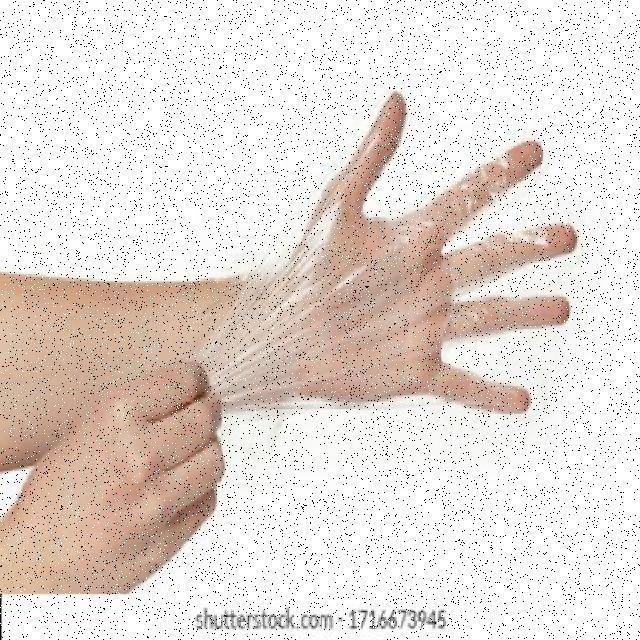Guantes: (262, 87, 594, 421)
